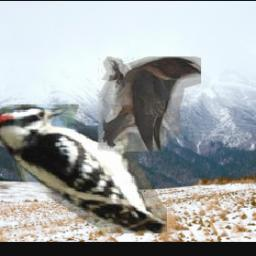Swallow: (98, 57, 201, 152)
Woodpecker: (0, 105, 168, 234)
